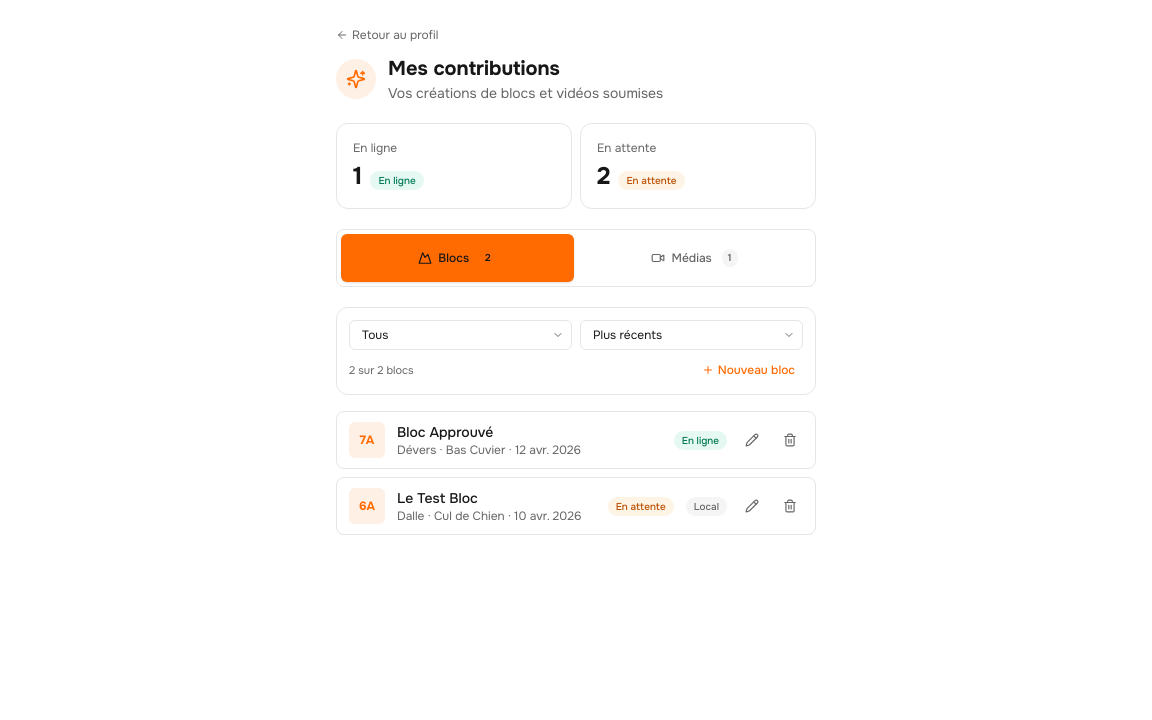
Scenario: ContributionsPage › with contribution data › opens the soft-delete dialog when deleting an approved draft
Click the button named "Supprimer le bloc Bloc Approuvé" at (790, 440), box [777,427,803,453]
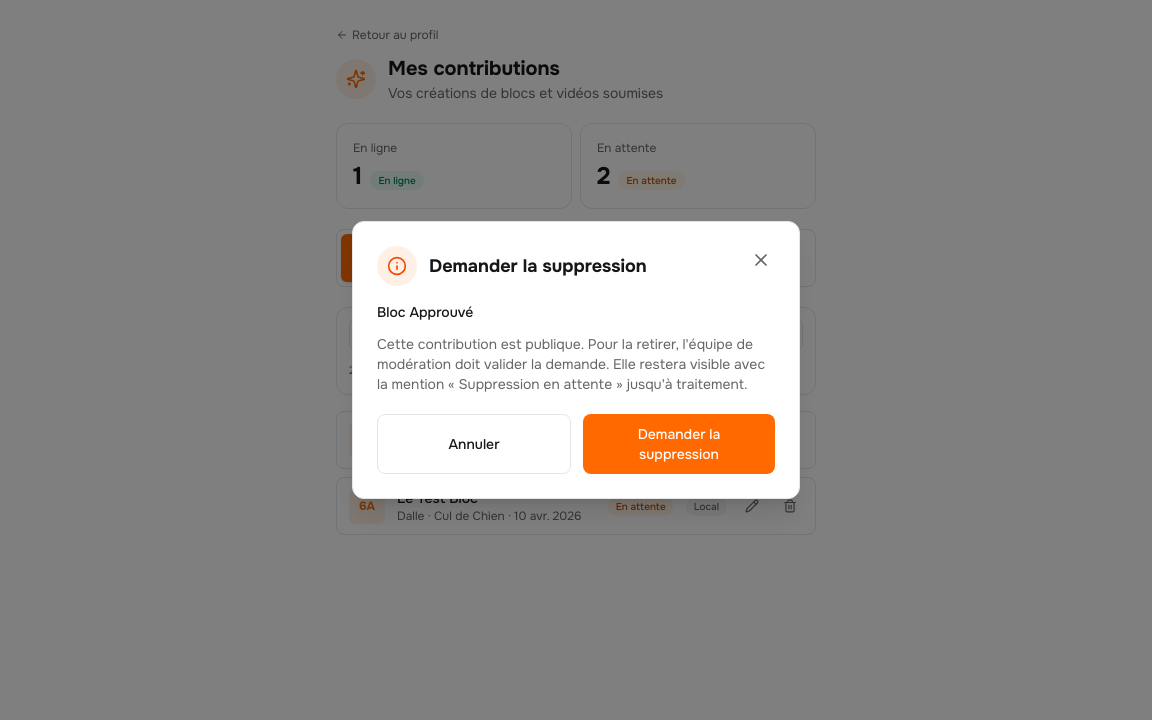
Result: the element with test id "contribution-delete-dialog" is shown
